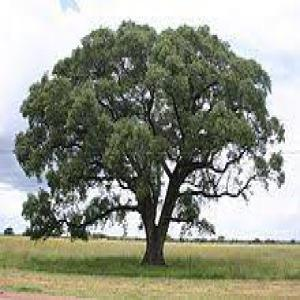Tree: (11, 19, 286, 269)
